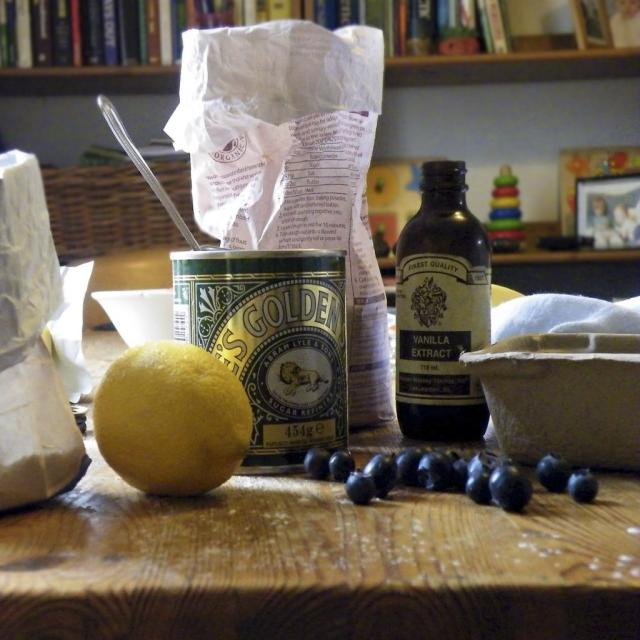Lemon: (84, 348, 250, 506)
